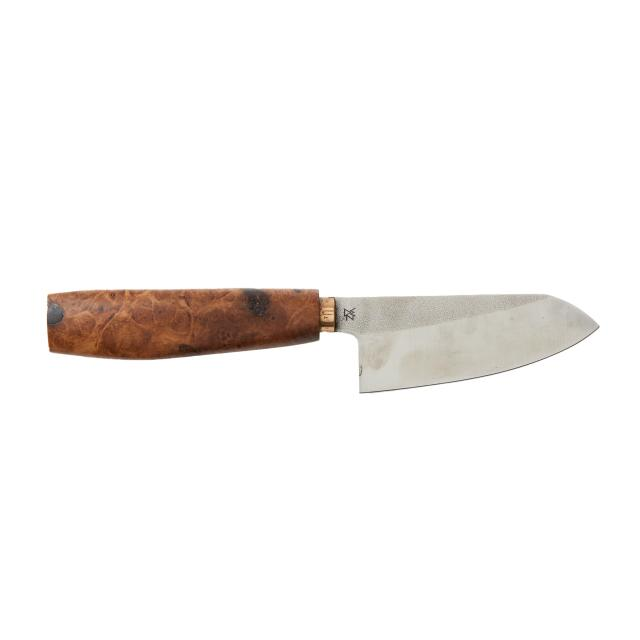Knife: (46, 287, 600, 394)
